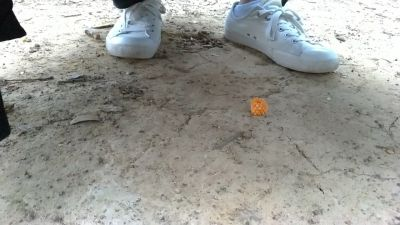eggs: (251, 95, 270, 118)
